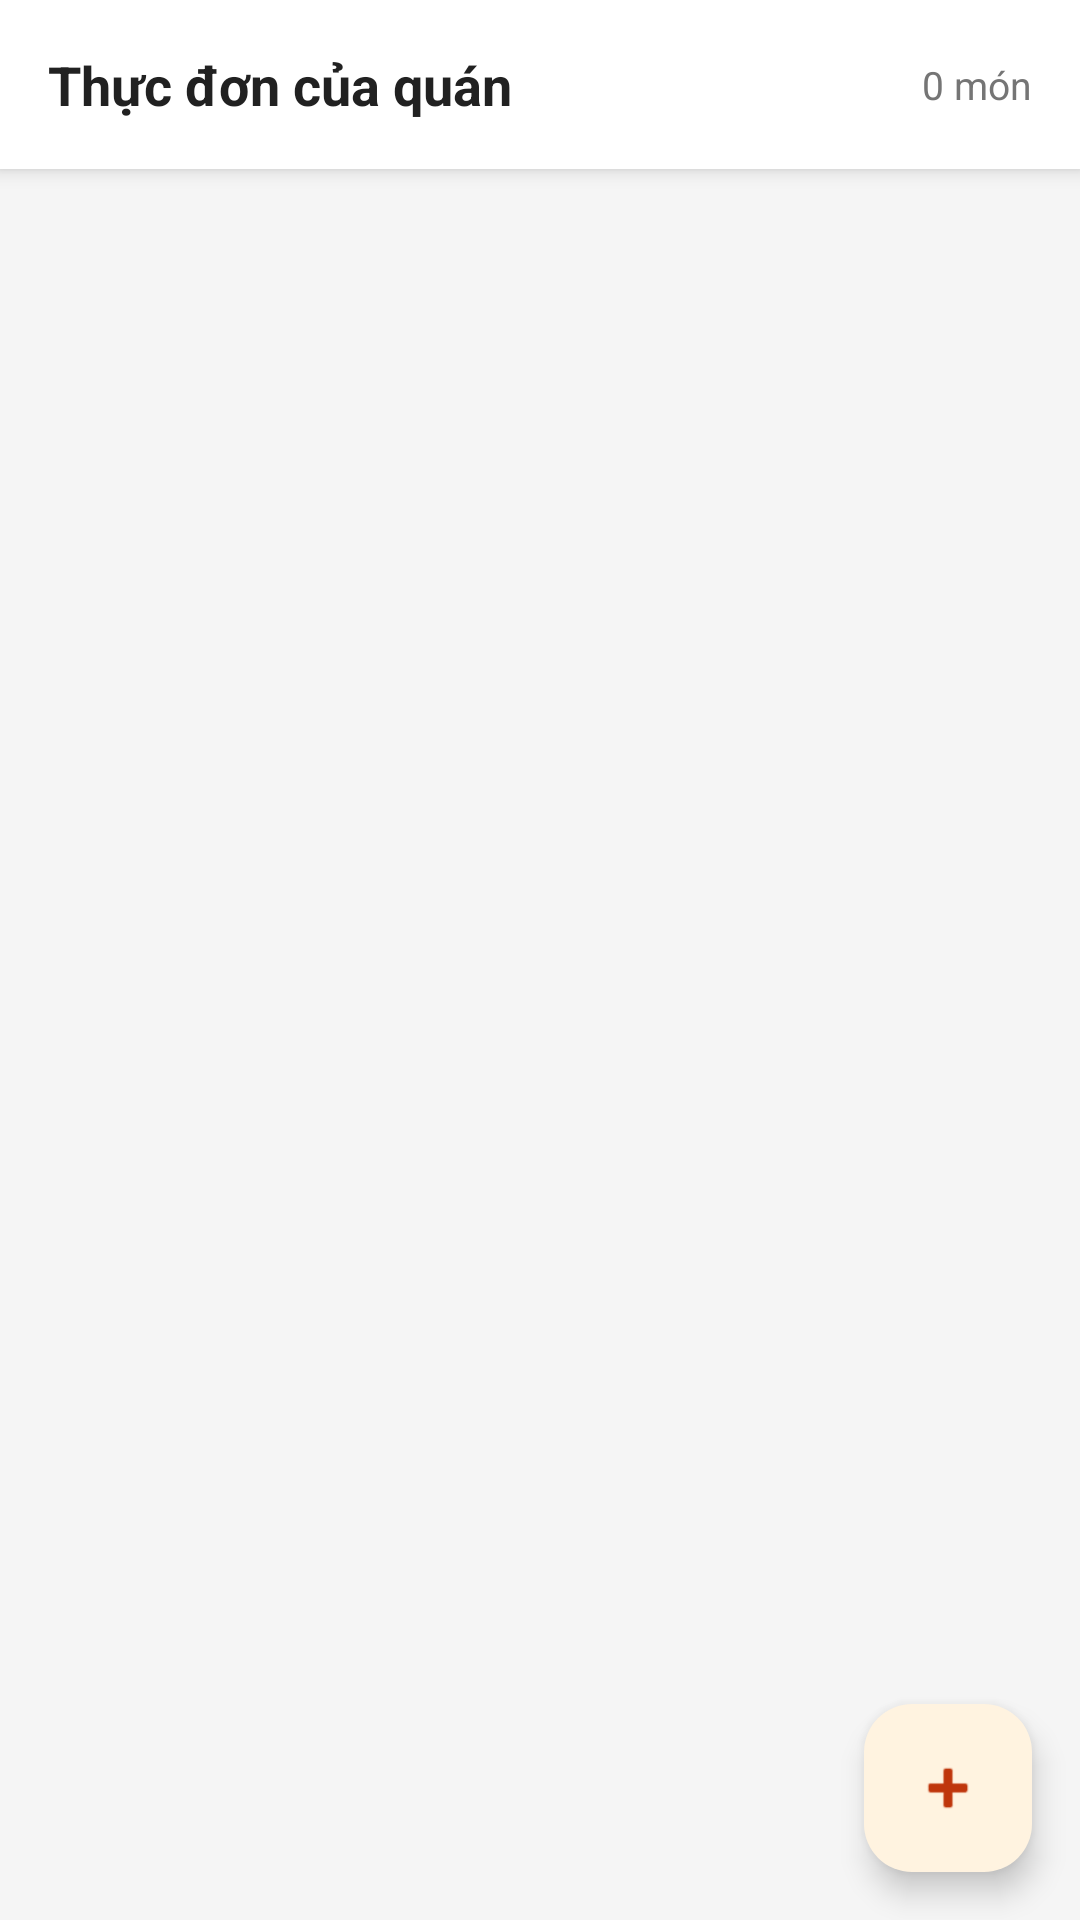

Icon click points for this 1080×1920 phone screenshot, format (x,y):
Thêm món ăn: (948,1788)
